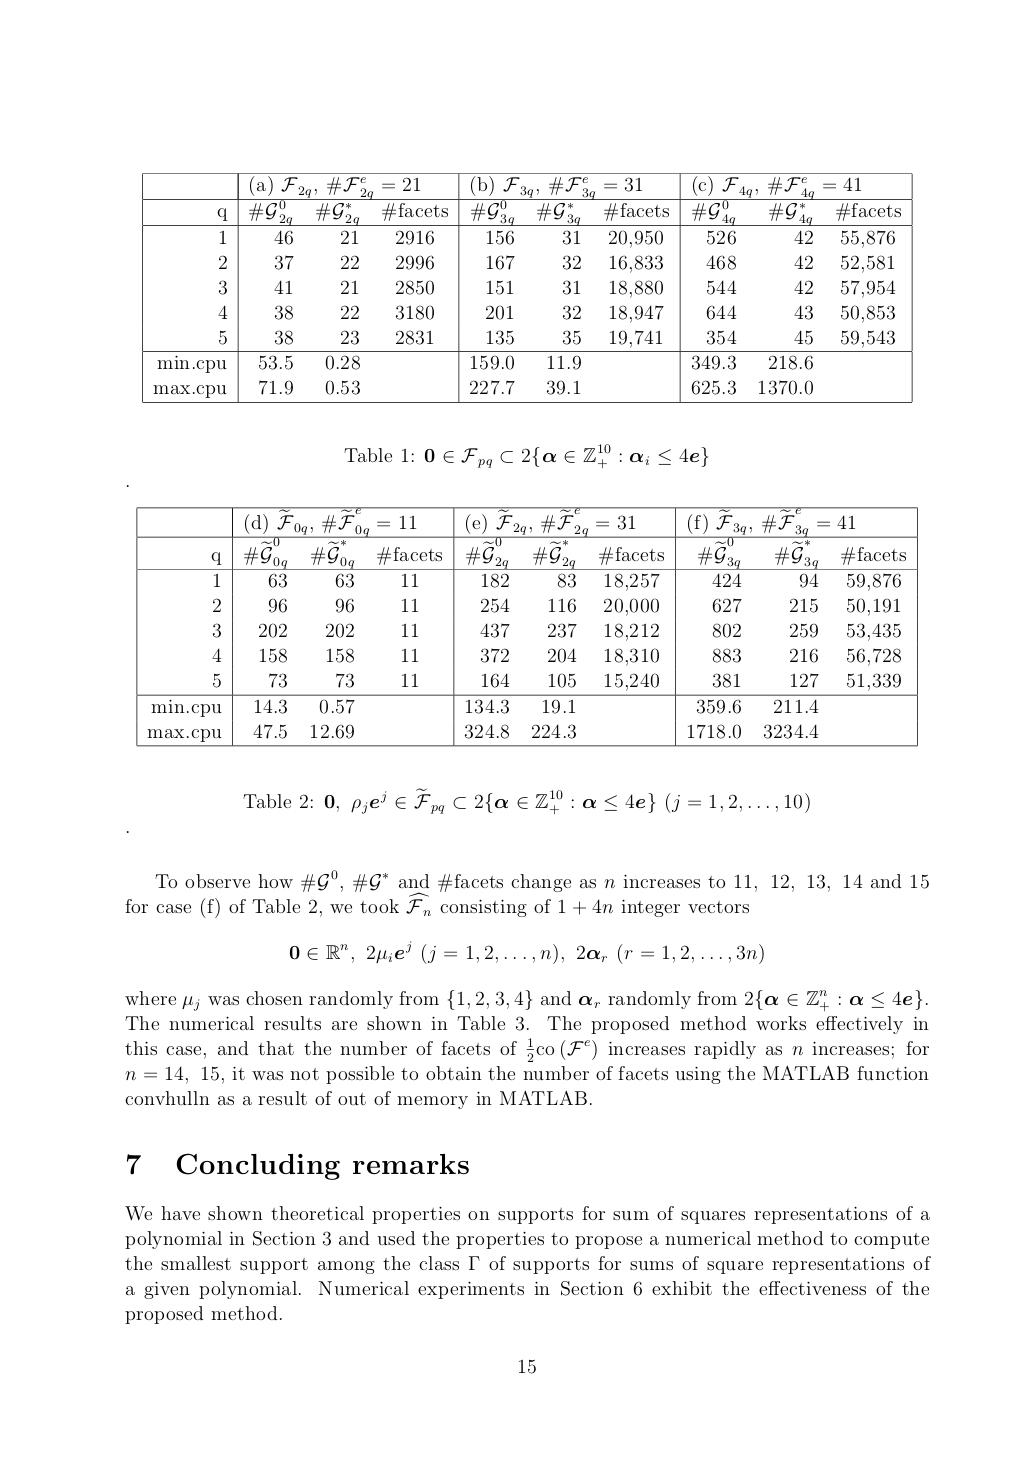Table: (136, 505, 917, 747), (142, 172, 912, 403)
formula: (289, 940, 763, 964)
